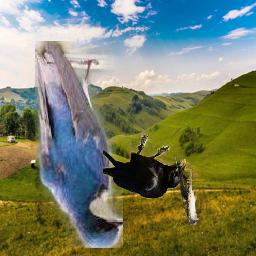Crow: (104, 133, 187, 199)
Cuckoo: (175, 157, 200, 225)
Swallow: (35, 42, 123, 249)
